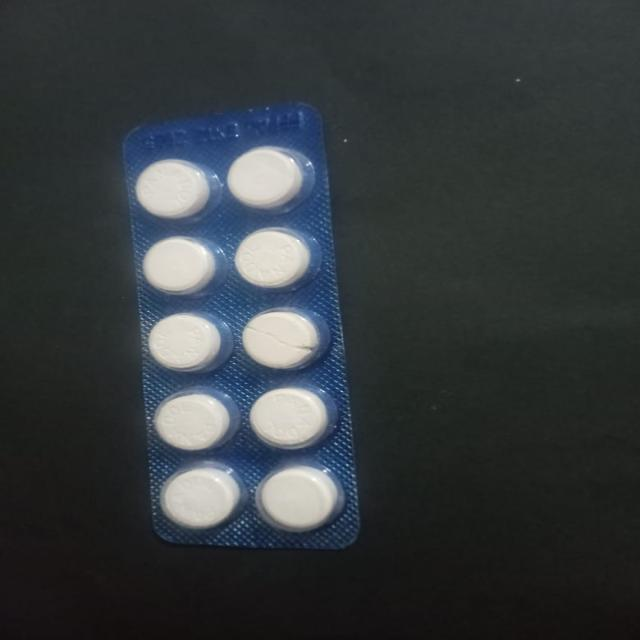defect: (236, 304, 332, 374)
